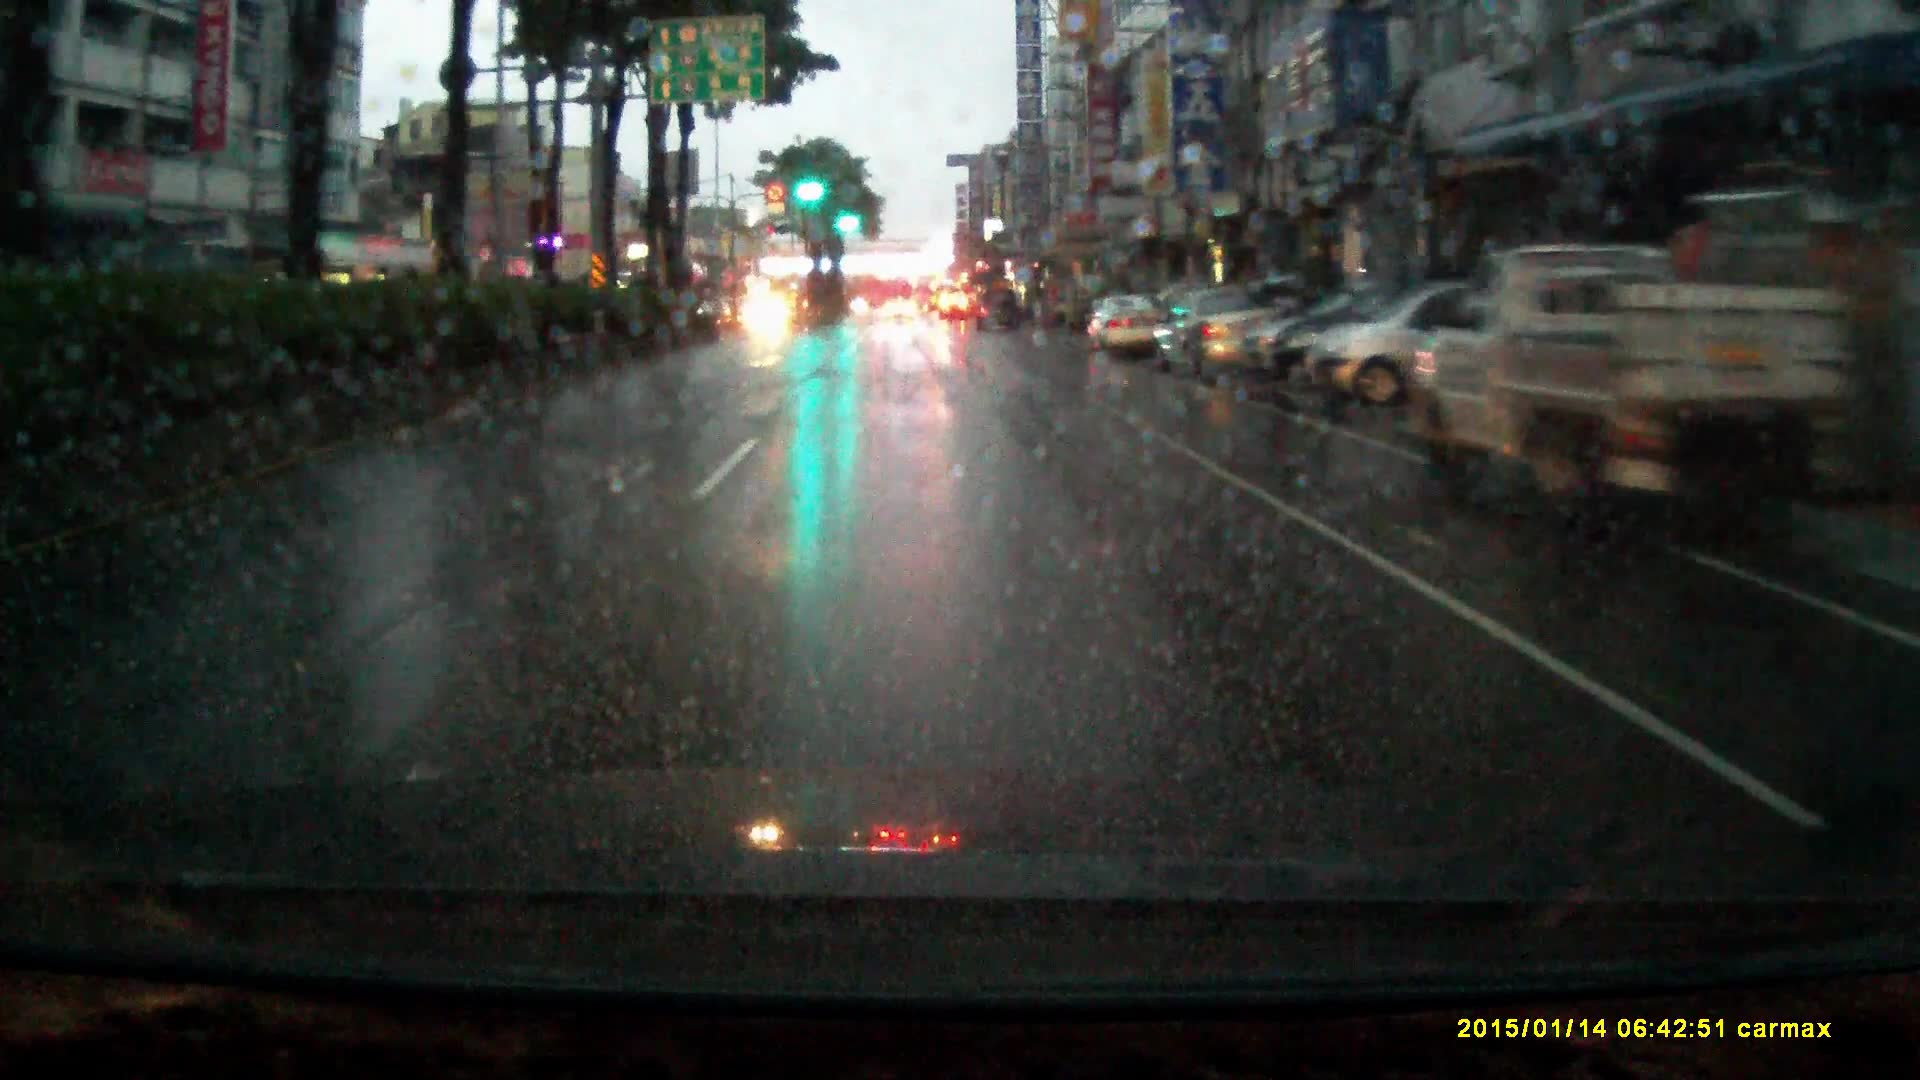vehicle: (1400, 249, 1891, 582), (1305, 289, 1503, 415), (1150, 295, 1299, 400), (1091, 305, 1160, 371), (973, 297, 1026, 342), (742, 301, 796, 344), (914, 284, 939, 319), (939, 301, 971, 328), (886, 305, 916, 324)
